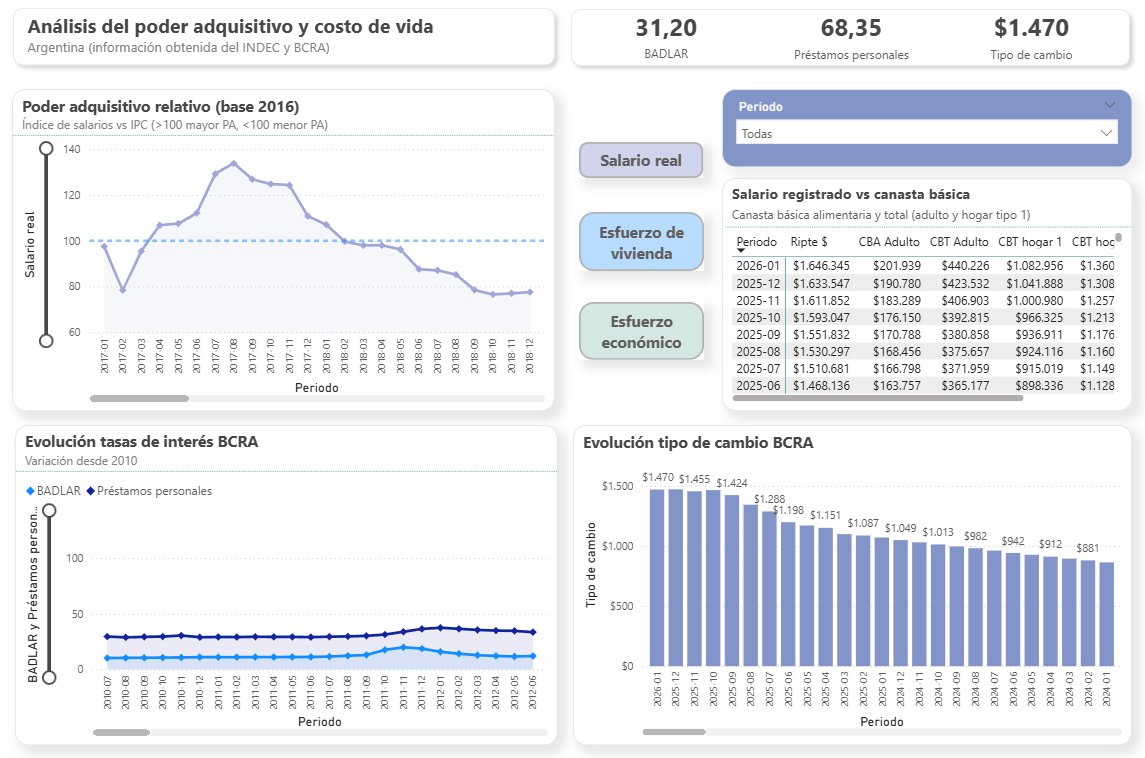

The dashboard page shown, as its layout file describes it:
{"tool":"powerbi","page":{"name":"Análisis","canvas":[1280,850],"ordinal":0},"visuals":[{"type":"group","id":"g1","title":"Grupo 1","box":[9,2,619.9,81.6],"z":0},{"type":"shape","box":[9,2,619.9,81.6],"z":0,"group":"g1"},{"type":"group","id":"g2","title":"Grupo 2","box":[629,3,639,81],"z":1000},{"type":"shape","box":[629,3,639,81],"z":1000,"group":"g2"},{"type":"textbox","box":[29,11,487,62],"z":1000,"group":"g1"},{"type":"clusteredColumnChart","title":"Evolución tipo de cambio BCRA","fields":{"Y":["Tipo de cambio.Tipo de cambio"],"Category":["Calendar table.Periodo"]},"box":[640,474,621,356],"z":2000},{"type":"pivotTable","title":"Salario registrado vs canasta básica","fields":{"Rows":["Calendar table.Periodo"],"Values":["Sum(Ripte.Monto en $)","Sum(Canasta básica.CBAA)","Sum(Canasta básica.CBTA)","Sum(Canasta básica.CBTH1)","Sum(Canasta básica.CBTH2)","Sum(Canasta básica.CBTH3)"]},"box":[805,200,456,259],"z":3000},{"type":"lineChart","title":"Evolución tasas de interés BCRA","fields":{"Category":["Calendar table.Periodo"],"Y":["Tasa BADLAR.BADLAR","Tasa préstamos personales.Préstamos personales"]},"box":[20,474,603,356],"z":4000},{"type":"slicer","fields":{"Values":["Calendar table.Periodo"]},"box":[805,101,456,87],"z":5000},{"type":"card","fields":{"Values":["Tasa BADLAR.BADLAR"]},"box":[653.2,5.5,180.4,71.4],"z":8000,"group":"g2"},{"type":"lineChart","title":"Poder adquisitivo relativo (base 2016)","fields":{"Category":["Calendar table.Periodo"],"Y":["Índice salarios.Salario real"]},"box":[17,101,603,358],"z":8000},{"type":"actionButton","title":"Salario real boton","box":[647,160,138,40],"z":9000},{"type":"card","fields":{"Values":["Tasa préstamos personales.Préstamos personales"]},"box":[858.5,5,180.9,72.1],"z":10000,"group":"g2"},{"type":"actionButton","title":"ICL boton","box":[646.7,237.8,138.9,65.6],"z":10000},{"type":"card","fields":{"Values":["Tipo de cambio.Tipo de cambio"]},"box":[1059.1,5,180.9,72.1],"z":11000,"group":"g2"},{"type":"actionButton","title":"Indices 2016 boton","box":[646.7,337.8,138.9,64.4],"z":11000}]}

Visuals, with their boxes in screenshot pixels (x1, y1, x2, y2), scaled from the page's 1280x850 canvas onto the 1145x758 screenshot:
"Grupo 1" group: [left=8, top=2, right=563, bottom=75]
shape: [left=8, top=2, right=563, bottom=75]
"Grupo 2" group: [left=563, top=3, right=1134, bottom=75]
shape: [left=563, top=3, right=1134, bottom=75]
textbox: [left=26, top=10, right=462, bottom=65]
"Evolución tipo de cambio BCRA" clusteredColumnChart: [left=572, top=423, right=1128, bottom=740]
"Salario registrado vs canasta básica" pivotTable: [left=720, top=178, right=1128, bottom=409]
"Evolución tasas de interés BCRA" lineChart: [left=18, top=423, right=557, bottom=740]
slicer - Calendar table.Periodo: [left=720, top=90, right=1128, bottom=168]
card - Tasa BADLAR.BADLAR: [left=584, top=5, right=746, bottom=69]
"Poder adquisitivo relativo (base 2016)" lineChart: [left=15, top=90, right=555, bottom=409]
"Salario real boton" actionButton: [left=579, top=143, right=702, bottom=178]
card - Tasa préstamos personales.Préstamos personales: [left=768, top=4, right=930, bottom=69]
"ICL boton" actionButton: [left=578, top=212, right=703, bottom=271]
card - Tipo de cambio.Tipo de cambio: [left=947, top=4, right=1109, bottom=69]
"Indices 2016 boton" actionButton: [left=578, top=301, right=703, bottom=359]
